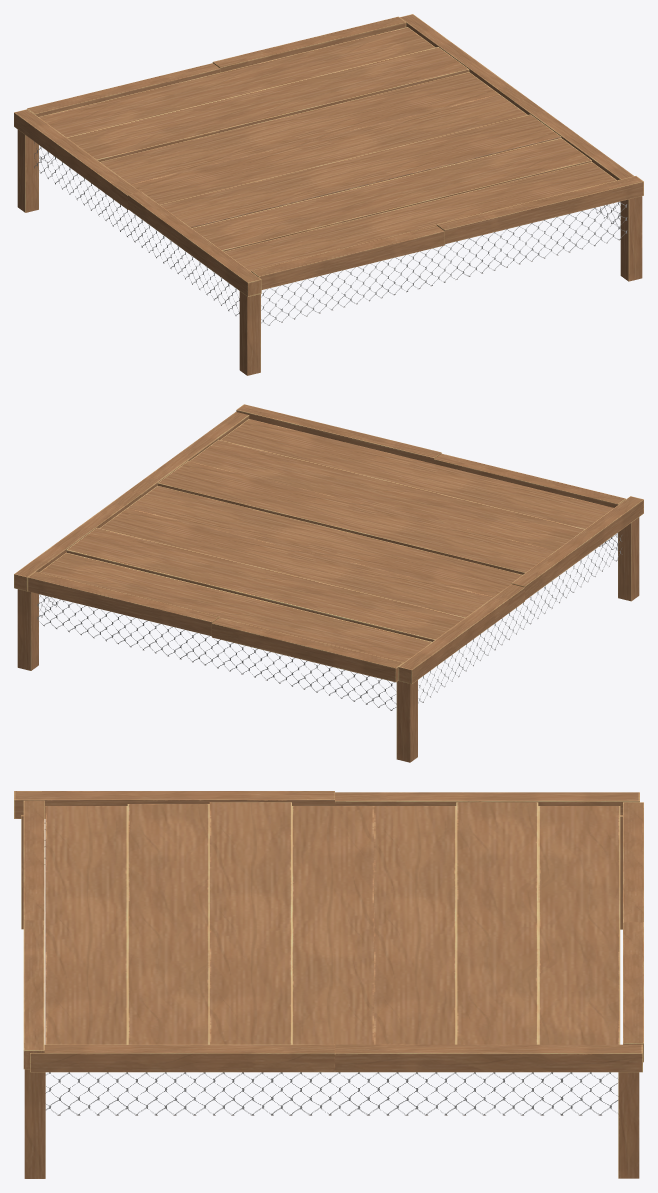
Rendered from Platform_Wire.fbx.
3 renders of one model, top to bottom at view 1: azimuth 30°, elevation 25°; view 2: azimuth 150°, elevation 25°; view 3: azimuth 270°, elevation 25°, orthographic. The views are drawn at different scales.
Parts seen in each view (by area): view 1: pPlane25; view 2: pPlane25; view 3: pPlane25.
Boxes of the visible parts, box(x1,y1,x2,y2) form: pPlane25: box(14, 14, 643, 375); pPlane25: box(14, 404, 643, 762); pPlane25: box(14, 791, 643, 1178).
Size of the model in its own units: 10.64 by 2.46 by 10.85.
